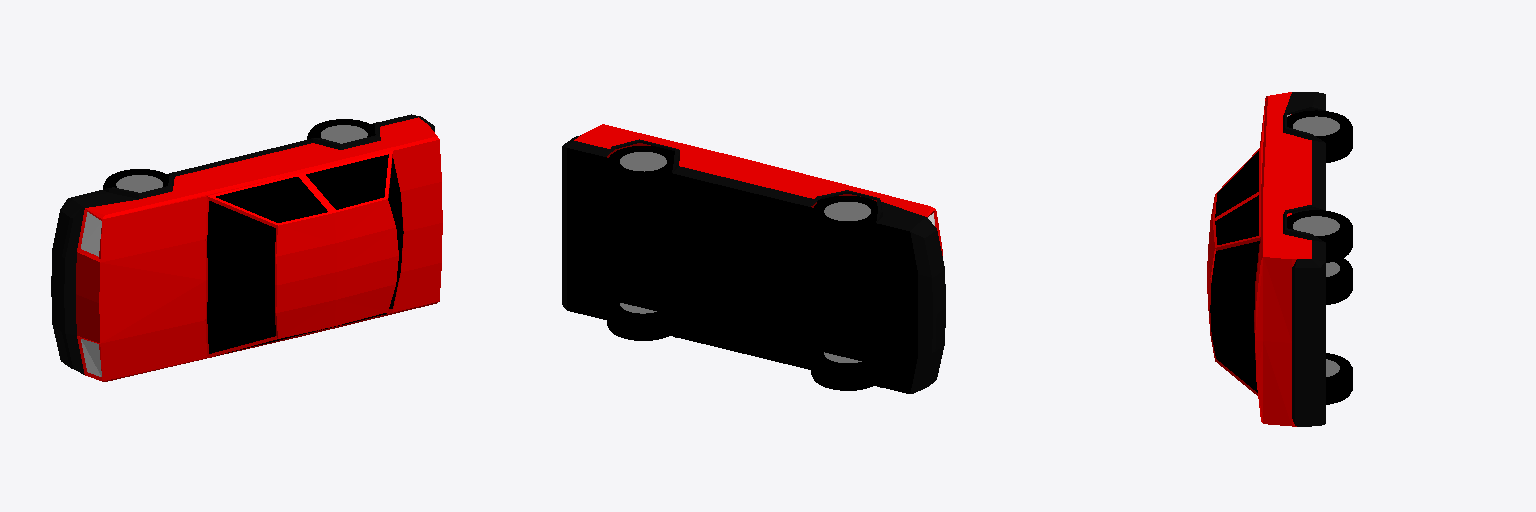
File: Car.obj
The picture shows the model from 3 angles: view 1: azimuth 30°, elevation 25°; view 2: azimuth 150°, elevation 25°; view 3: azimuth 270°, elevation 25°; orthographic projection.
Parts seen in each view (by area): view 1: Car_Cube; view 2: Car_Cube; view 3: Car_Cube.
Boxes of the visible parts, x1=… form: Car_Cube: x1=51, y1=114, x2=442, y2=381; Car_Cube: x1=562, y1=124, x2=945, y2=393; Car_Cube: x1=1207, y1=92, x2=1352, y2=426.
Size of the model in its own units: 4.67 by 2.1 by 1.59.